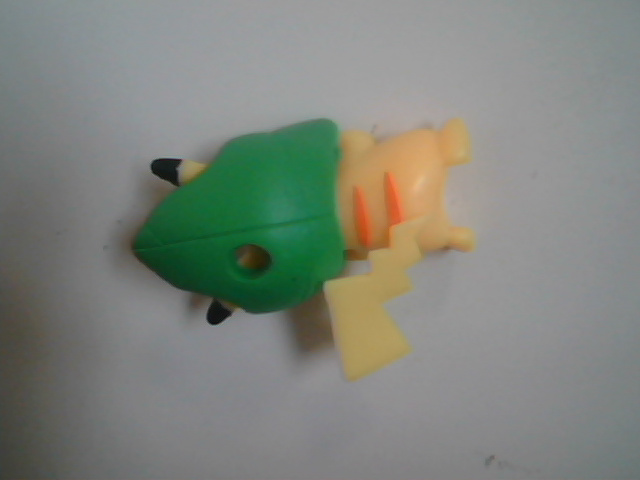pikachu: (124, 47, 497, 415)
